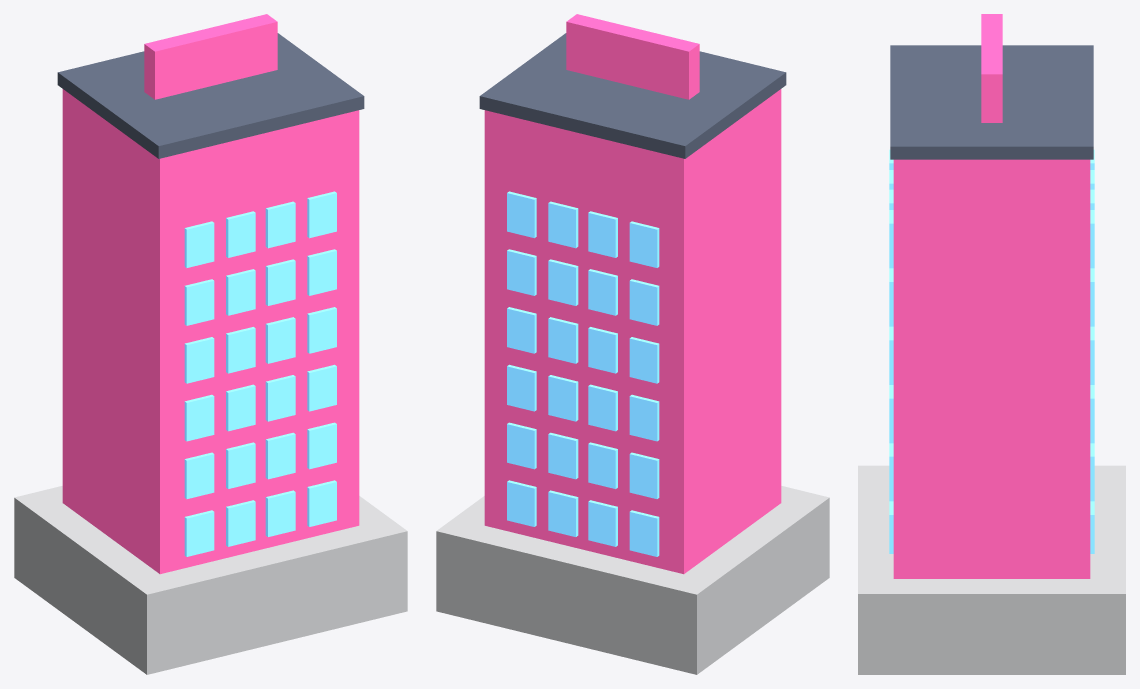
The model's file is hotel.glb.
The picture shows the model from 3 angles, left to right: view 1: azimuth 30°, elevation 25°; view 2: azimuth 150°, elevation 25°; view 3: azimuth 270°, elevation 25°; orthographic projection.
Visible parts, largest first — view 1: hotel; view 2: hotel; view 3: hotel.
Boxes of the visible parts, x1,y1,x2,y2 form: hotel: [14, 14, 407, 674]; hotel: [436, 14, 829, 674]; hotel: [858, 14, 1125, 674].
Bounding box in the file's own units: 1.7 × 3.5 × 1.5.
